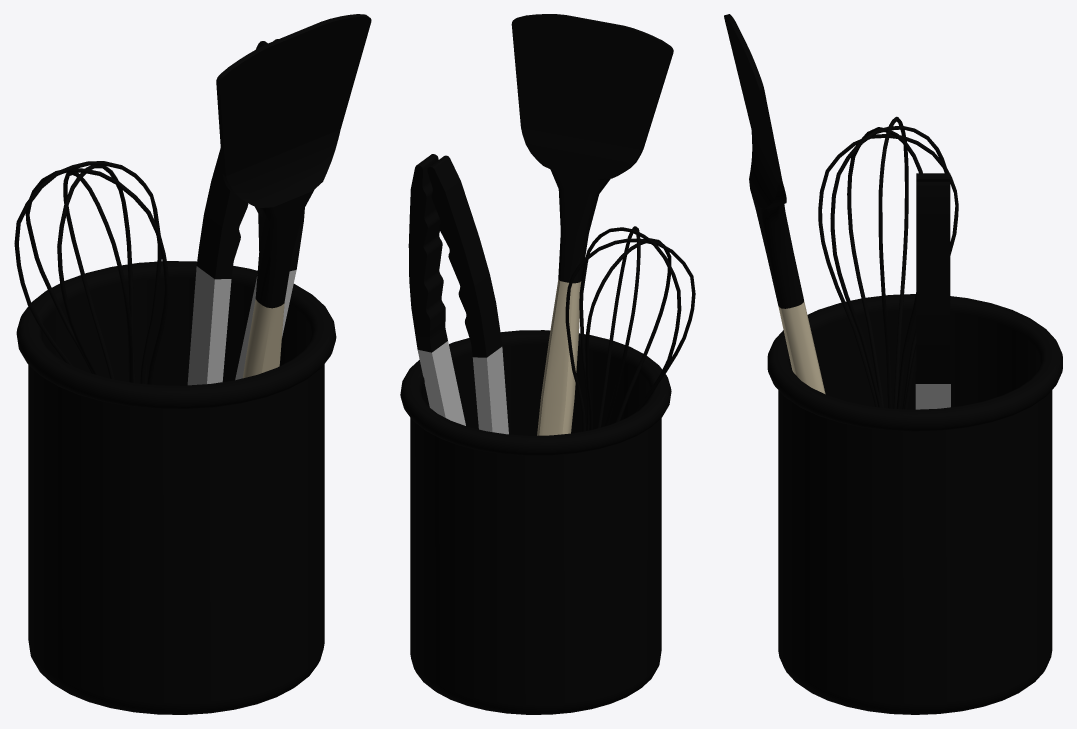
Rendered from utensili.fbx.
The picture shows the model from 3 angles, left to right: view 1: azimuth 30°, elevation 25°; view 2: azimuth 150°, elevation 25°; view 3: azimuth 270°, elevation 25°; orthographic projection. The views are drawn at different scales.
Visible parts, largest first — view 1: pCylinder1, pCube6, polySurface20, polySurface10; view 2: pCylinder1, pCube6, polySurface20, polySurface10; view 3: pCylinder1, pCube6, polySurface10, polySurface20.
Part boxes in pixels (x1,y1,x2,y2): pCylinder1: (16, 261, 336, 714); pCube6: (216, 14, 371, 378); polySurface20: (187, 39, 304, 385); polySurface10: (14, 161, 169, 384); pCylinder1: (400, 330, 671, 714); pCube6: (511, 14, 673, 435); polySurface20: (408, 154, 508, 434); polySurface10: (565, 226, 695, 431); pCylinder1: (767, 294, 1062, 714); pCube6: (724, 14, 825, 394); polySurface10: (818, 116, 958, 409); polySurface20: (915, 173, 950, 409).
Bounding box in the file's own units: 6.32 × 13.62 × 6.56.
